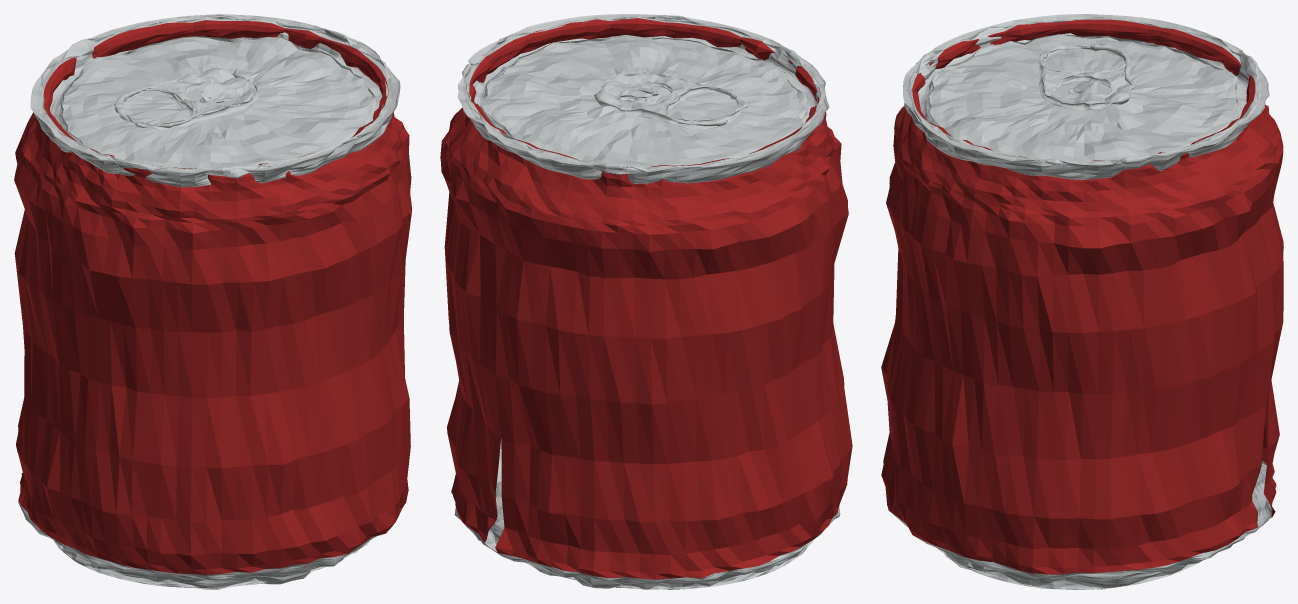
The model's file is crush_medium_1.obj.
3 renders of one model, left to right at view 1: azimuth 30°, elevation 25°; view 2: azimuth 150°, elevation 25°; view 3: azimuth 270°, elevation 25°, orthographic.
Parts seen in each view (by area): view 1: model; view 2: model; view 3: model.
Part boxes in pixels (x1,y1,x2,y2): model: (14, 14, 411, 589); model: (440, 14, 852, 589); model: (881, 14, 1283, 589).
Bounding box in the file's own units: 0.0694 × 0.0807 × 0.0669.
1 material, 1 textured.
